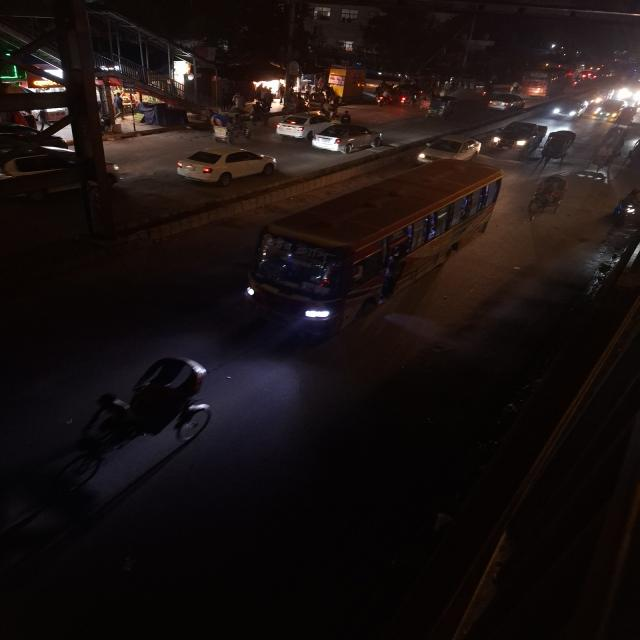bus: (240, 160, 504, 340), (522, 70, 562, 98)
car: (172, 145, 281, 187), (309, 123, 386, 156), (415, 131, 484, 165), (489, 120, 546, 154), (273, 112, 323, 140), (548, 99, 590, 122), (484, 92, 527, 113), (591, 99, 627, 123)
motorcycle: (613, 184, 640, 224), (372, 85, 400, 107)
rickshaw: (523, 170, 573, 223), (535, 128, 579, 166), (206, 110, 256, 142), (420, 94, 460, 120)
